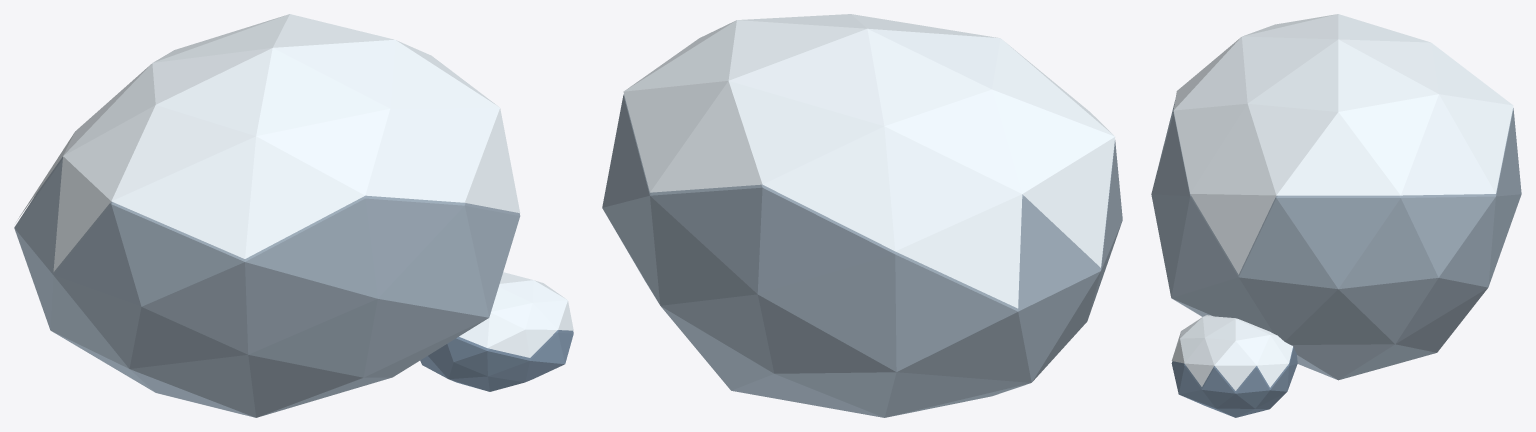
Rendered from rock-boulder-snowy.glb.
The picture shows the model from 3 angles, left to right: view 1: azimuth 30°, elevation 25°; view 2: azimuth 150°, elevation 25°; view 3: azimuth 270°, elevation 25°; orthographic projection. The views are drawn at different scales.
Parts seen in each view (by area): view 1: rock-boulder-kit-snowy-top, rock-boulder-kit-snowy-stone, rock-boulder-kit-snowy-shade; view 2: rock-boulder-kit-snowy-top, rock-boulder-kit-snowy-stone; view 3: rock-boulder-kit-snowy-top, rock-boulder-kit-snowy-stone, rock-boulder-kit-snowy-shade.
Part boxes in pixels (bbox=[...]): rock-boulder-kit-snowy-top: bbox=[16, 14, 573, 357]; rock-boulder-kit-snowy-stone: bbox=[14, 157, 520, 417]; rock-boulder-kit-snowy-shade: bbox=[420, 330, 573, 391]; rock-boulder-kit-snowy-top: bbox=[623, 14, 1115, 308]; rock-boulder-kit-snowy-stone: bbox=[602, 94, 1122, 417]; rock-boulder-kit-snowy-top: bbox=[1171, 14, 1513, 390]; rock-boulder-kit-snowy-stone: bbox=[1151, 100, 1521, 380]; rock-boulder-kit-snowy-shade: bbox=[1171, 347, 1297, 417].
Size of the model in its own units: 2.49 by 1.73 by 1.98.
